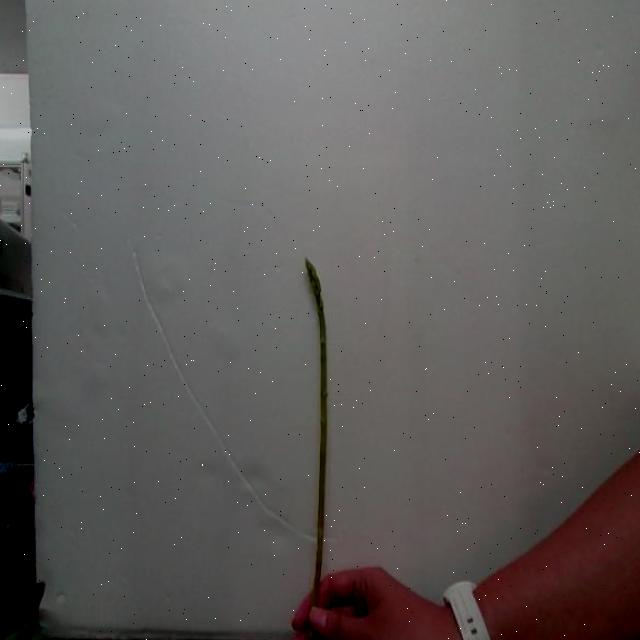aspargus: (305, 260, 331, 610)
